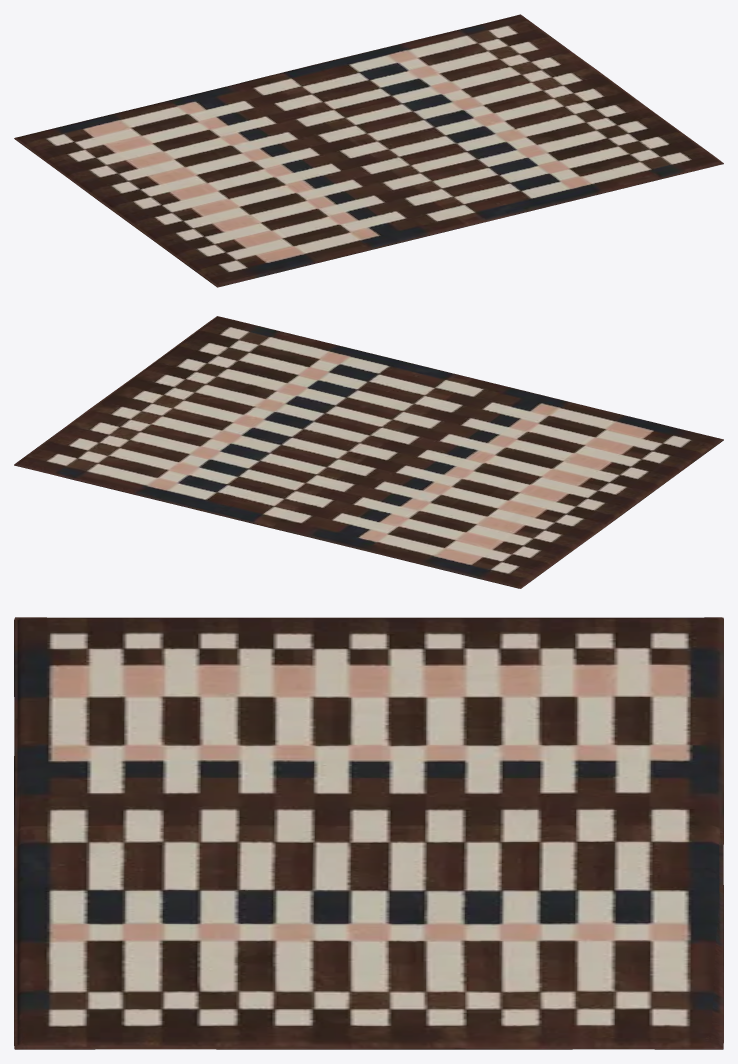
3 renders of one model, top to bottom at view 1: azimuth 30°, elevation 25°; view 2: azimuth 150°, elevation 25°; view 3: azimuth 270°, elevation 25°, orthographic. The views are drawn at different scales.
Parts seen in each view (by area): view 1: ASY_ART_90625705_S01_NV01; view 2: ASY_ART_90625705_S01_NV01; view 3: ASY_ART_90625705_S01_NV01.
Part boxes in pixels (box(x1,y1,x2,y2)): ASY_ART_90625705_S01_NV01: box(14, 14, 723, 287); ASY_ART_90625705_S01_NV01: box(14, 316, 723, 588); ASY_ART_90625705_S01_NV01: box(14, 617, 723, 1049).
Bounding box in the file's own units: 2.3 × 0.0112 × 1.6.
Materials: 1 (1 with a texture image).
